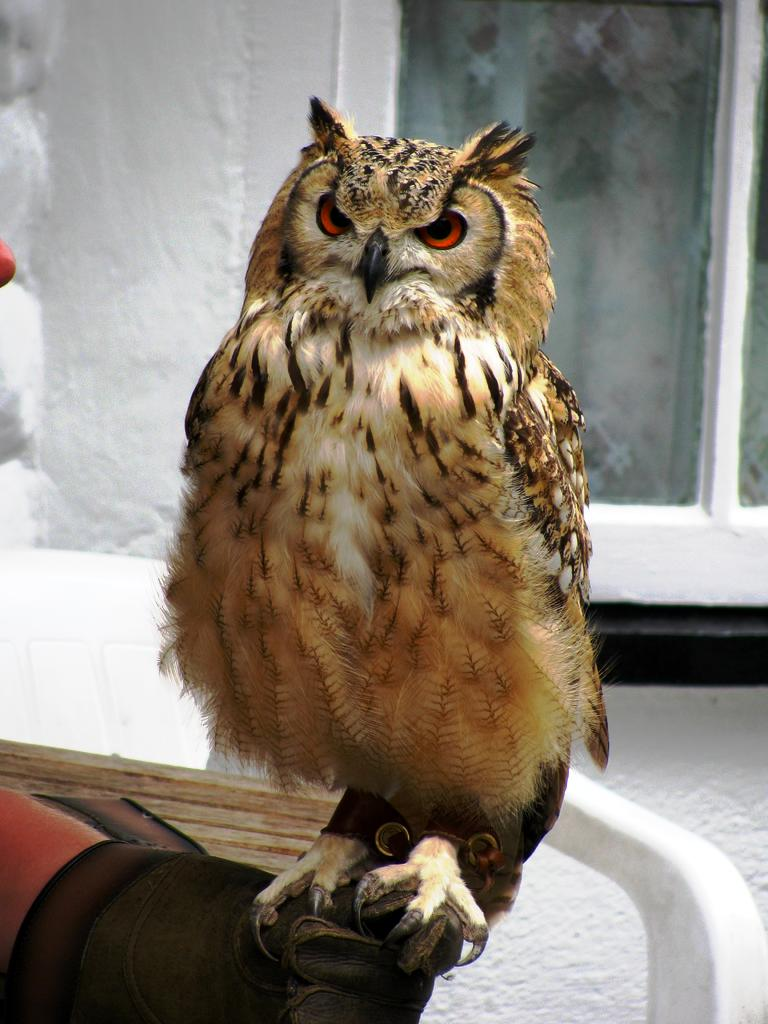Owl: (146, 92, 614, 1000)
